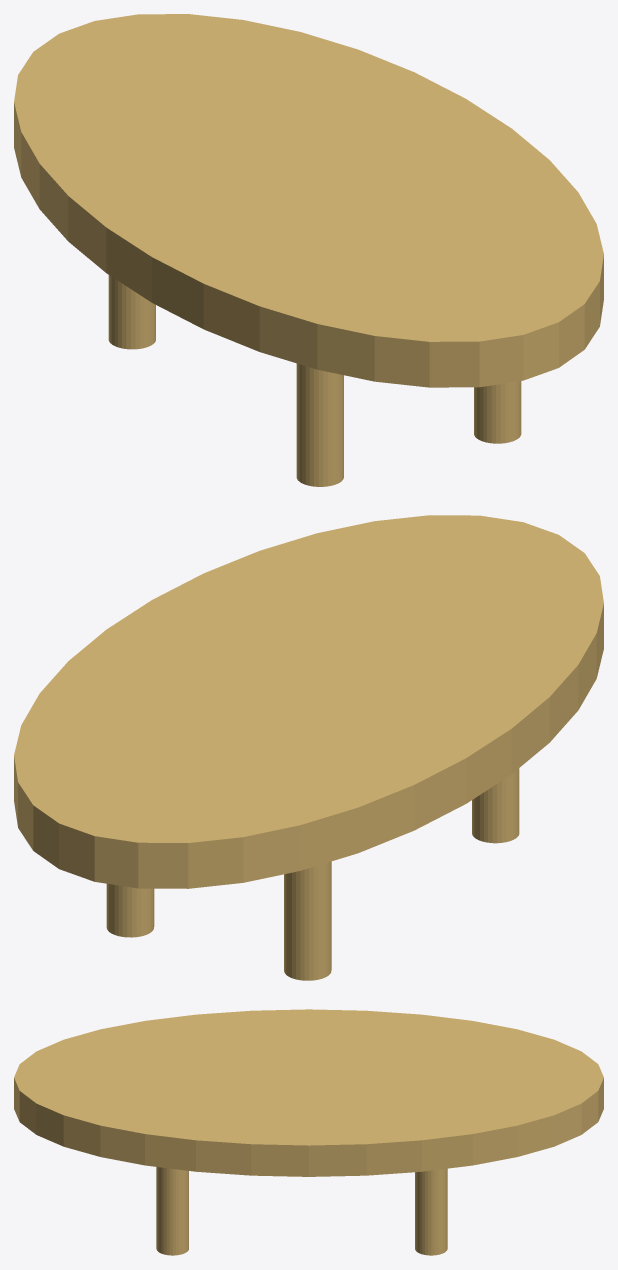
File: tvstand.fbx
3 renders of one model, top to bottom at view 1: azimuth 30°, elevation 25°; view 2: azimuth 150°, elevation 25°; view 3: azimuth 270°, elevation 25°, orthographic. The views are drawn at different scales.
Visible parts, largest first — view 1: Cylinder, Cylinder.001, Cylinder.004, Cylinder.002; view 2: Cylinder, Cylinder.004, Cylinder.001, Cylinder.003; view 3: Cylinder, Cylinder.002, Cylinder.003.
Part boxes in pixels (x1,y1,x2,y2): Cylinder: (14, 14, 603, 387); Cylinder.001: (296, 363, 343, 486); Cylinder.004: (108, 275, 155, 349); Cylinder.002: (474, 381, 521, 443); Cylinder: (14, 515, 603, 888); Cylinder.004: (284, 861, 331, 980); Cylinder.001: (472, 768, 519, 843); Cylinder.003: (106, 883, 154, 937); Cylinder: (14, 1009, 603, 1176); Cylinder.002: (156, 1167, 188, 1255); Cylinder.003: (415, 1168, 447, 1255).
Bounding box in the file's own units: 622 × 300 × 1139.
